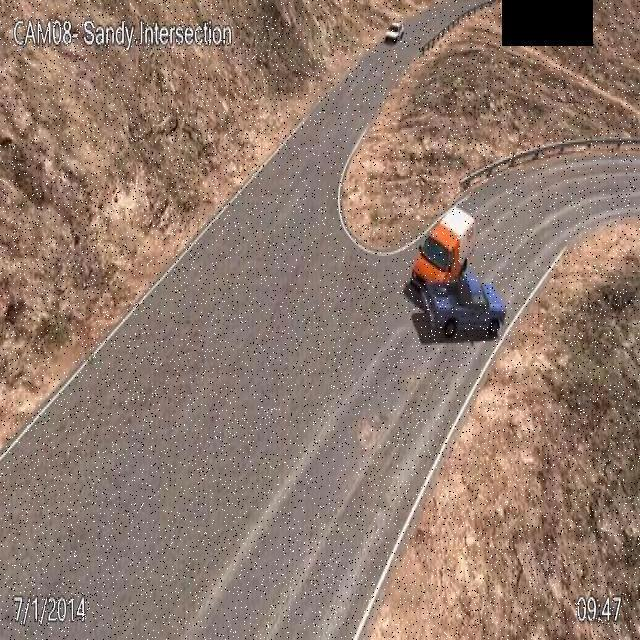moderate: (406, 202, 508, 340)
